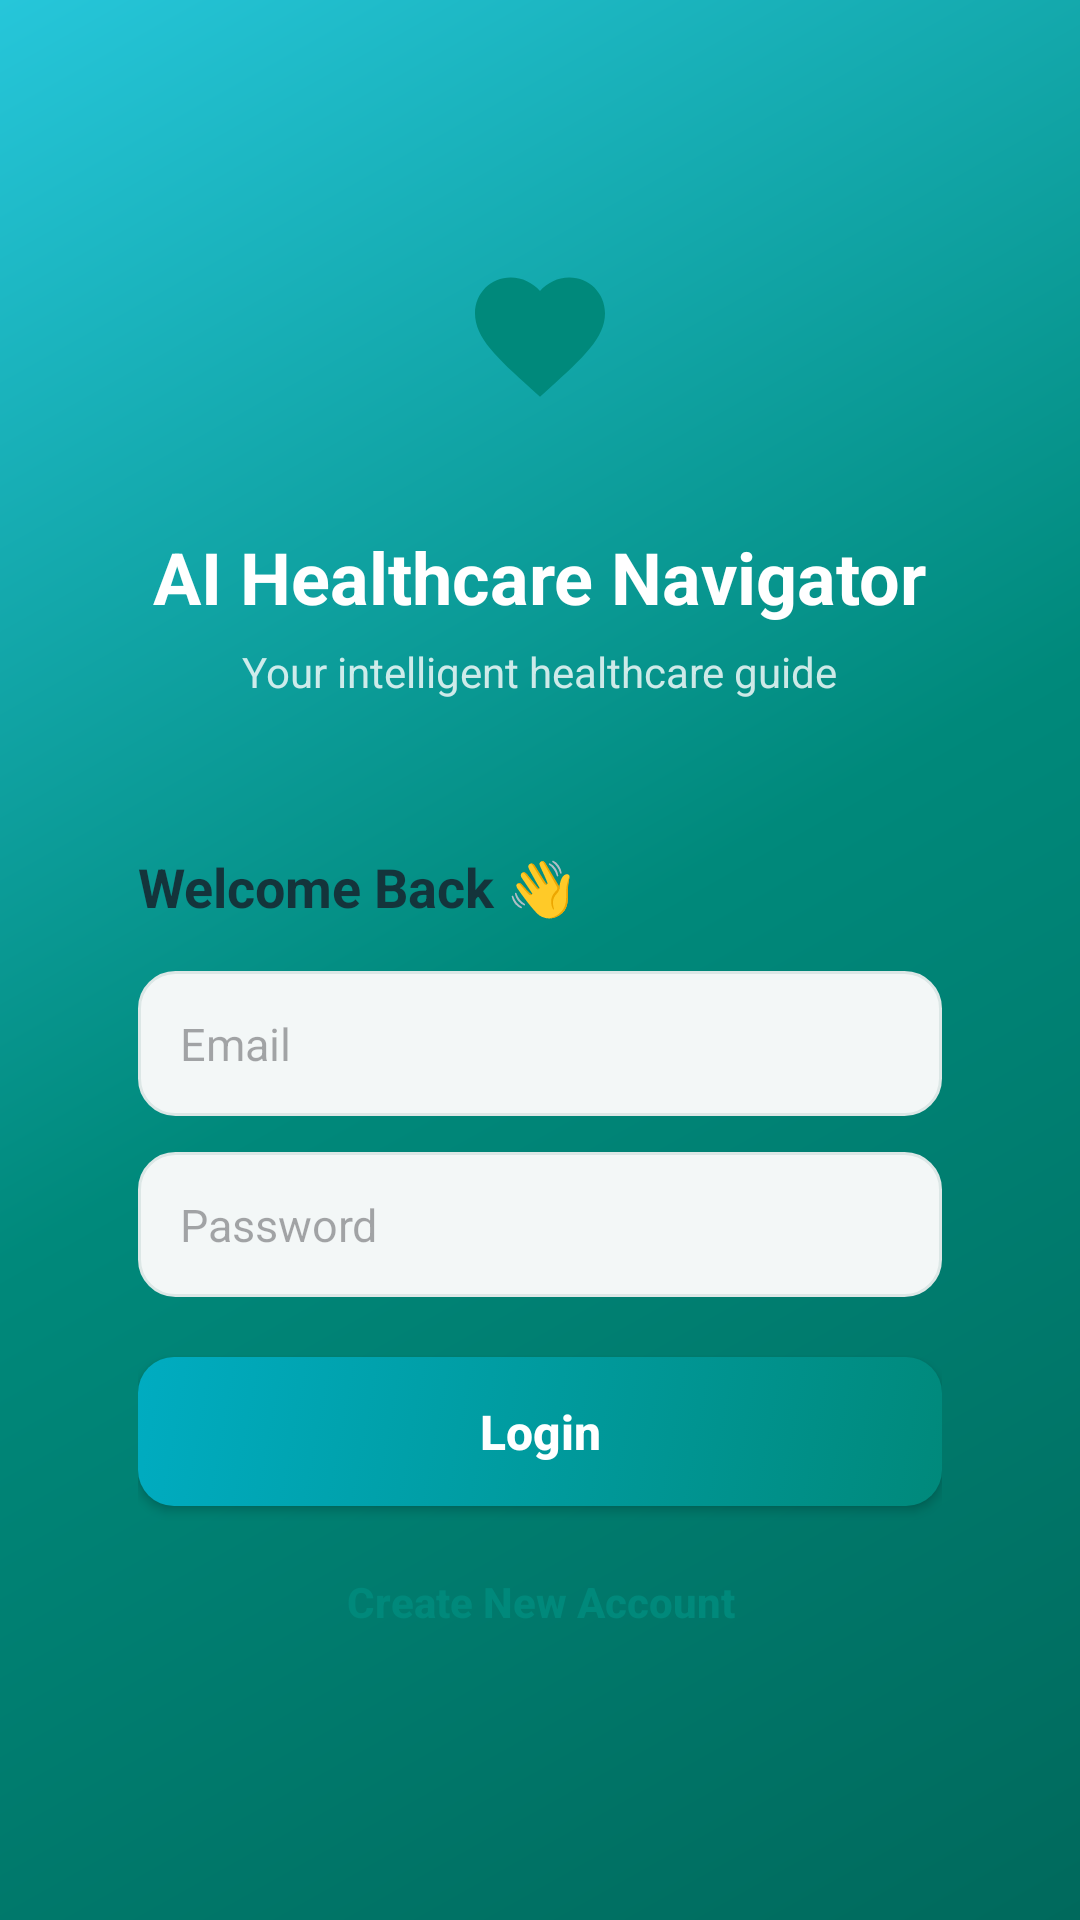

Named icons in this screenshot (1080 x 1920) and their bounding boxes, (x1, y1, x2, y2):
heart: (475, 277, 605, 397)
